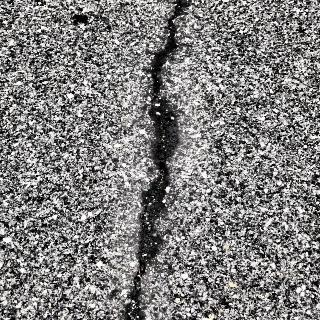crack: (120, 7, 193, 320)
